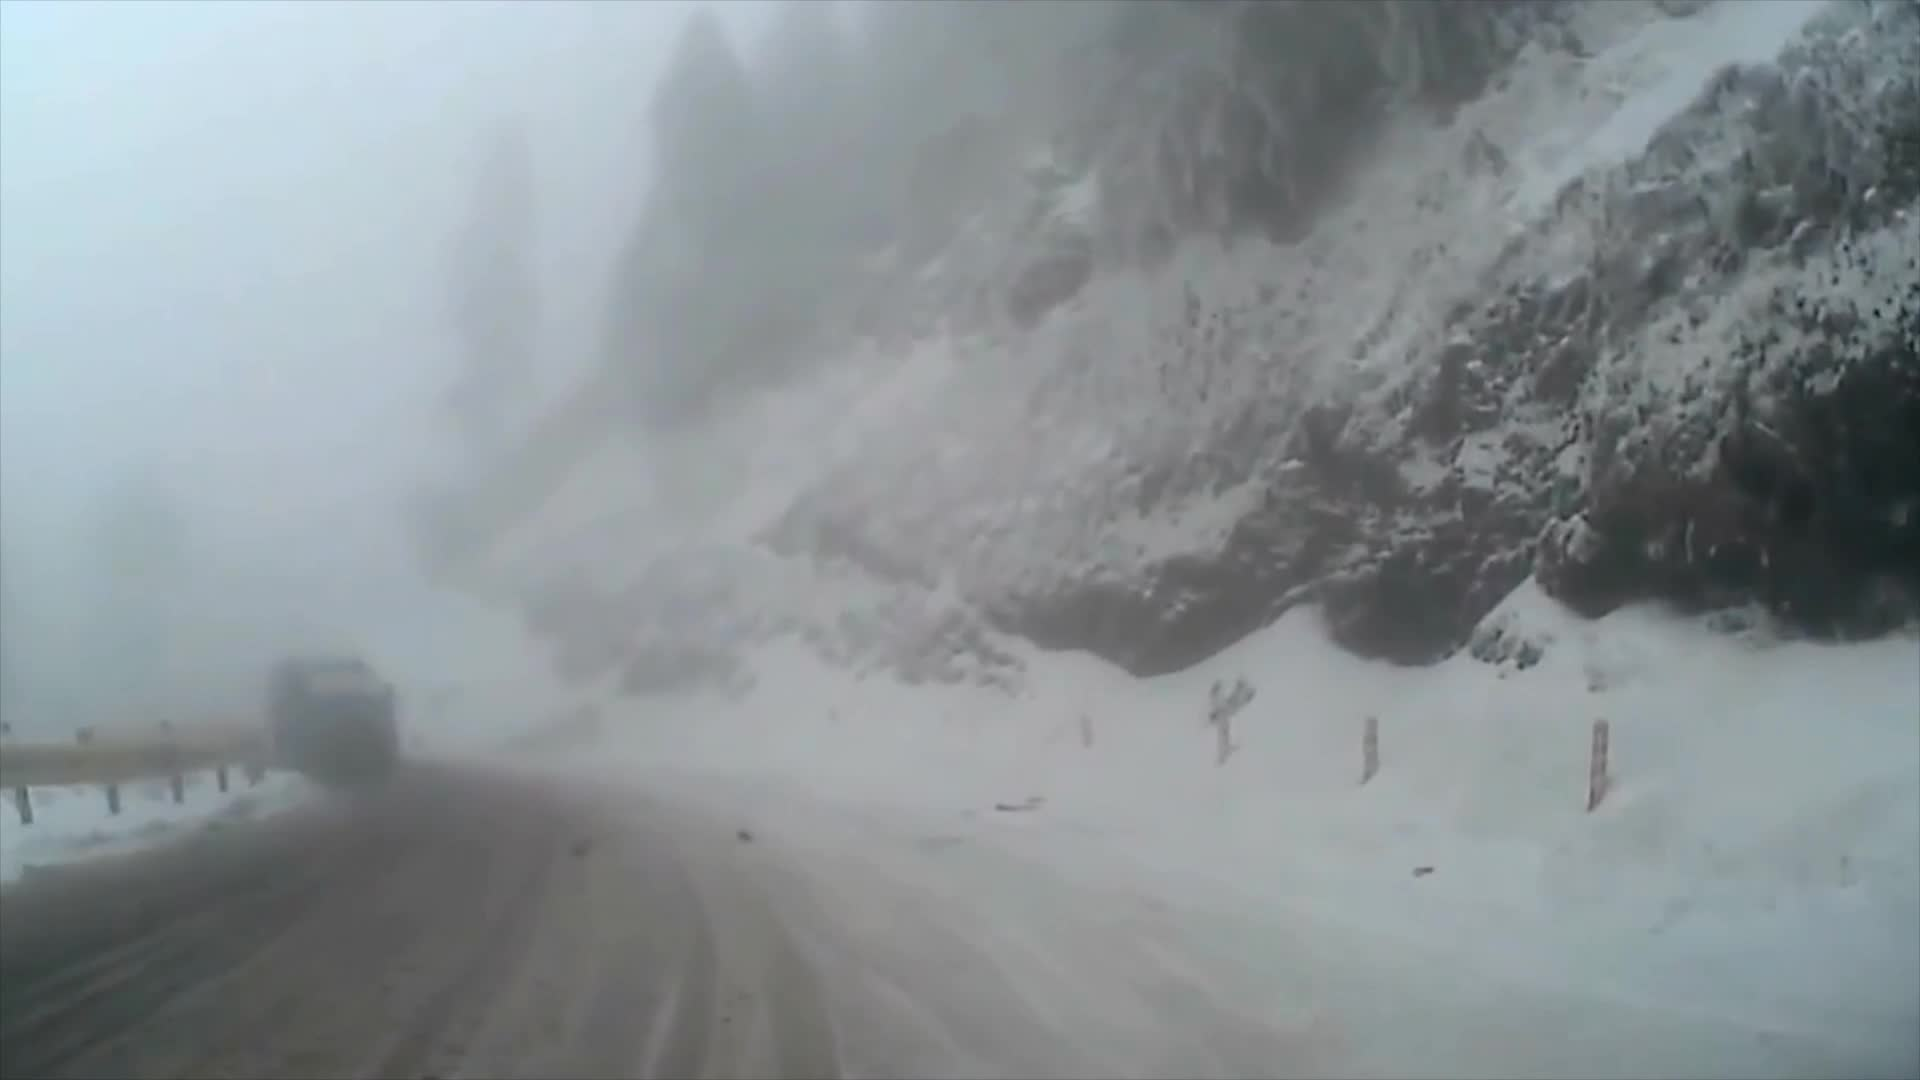vehicle: (265, 655, 396, 774)
